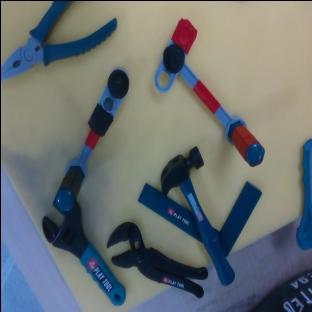non_pass: (49, 66, 134, 212)
pass: (132, 15, 269, 190)
